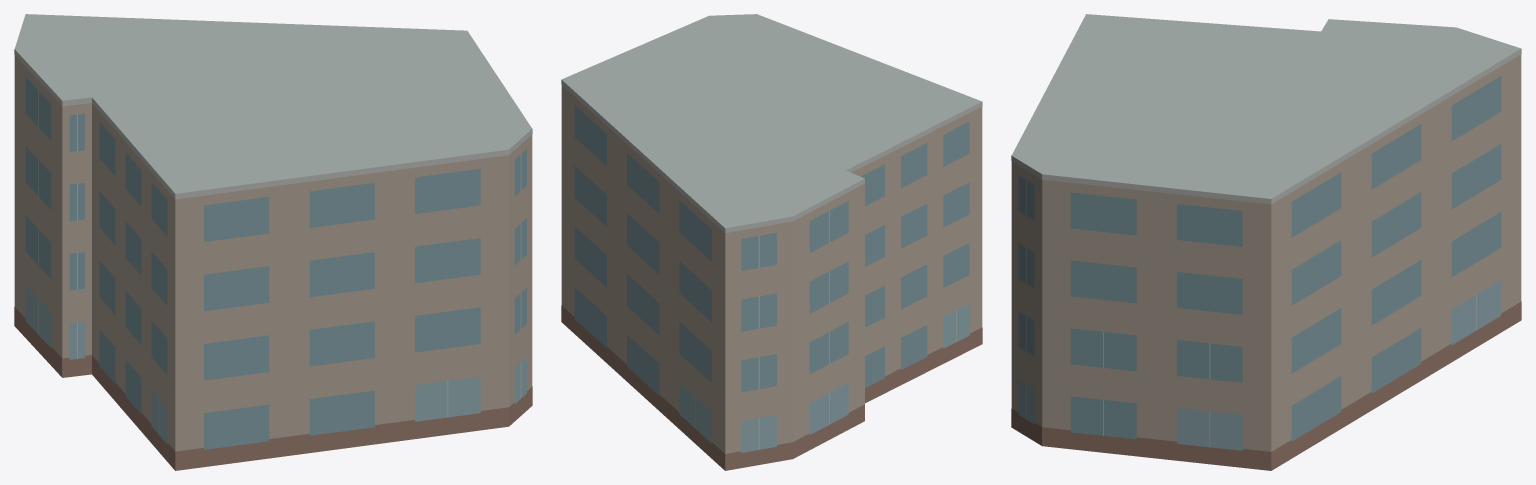
File: survey-upis-32750006.glb
The picture shows the model from 3 angles, left to right: view 1: azimuth 30°, elevation 25°; view 2: azimuth 150°, elevation 25°; view 3: azimuth 270°, elevation 25°; orthographic projection. The views are drawn at different scales.
Parts seen in each view (by area): view 1: survey-upis-32750006.tmp; view 2: survey-upis-32750006.tmp; view 3: survey-upis-32750006.tmp.
Part boxes in pixels (left/top/right/bottom): survey-upis-32750006.tmp: left=14, top=14, right=532, bottom=470; survey-upis-32750006.tmp: left=561, top=14, right=982, bottom=470; survey-upis-32750006.tmp: left=1011, top=14, right=1521, bottom=470.
Size of the model in its own units: 17.82 by 12.2 by 20.75.
